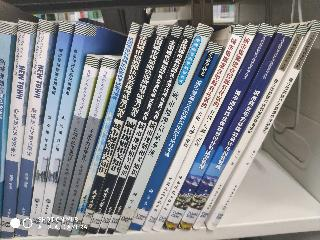book-spine: (206, 20, 320, 233), (178, 23, 294, 232), (162, 22, 276, 232), (192, 24, 308, 230), (141, 24, 246, 233), (152, 24, 258, 231), (112, 23, 212, 234), (106, 26, 195, 234), (96, 26, 182, 234), (128, 42, 221, 232), (87, 25, 169, 234), (76, 24, 153, 235), (70, 23, 140, 236), (23, 22, 74, 236), (38, 22, 86, 236), (58, 57, 115, 236), (45, 54, 100, 236), (15, 21, 52, 236), (0, 21, 34, 238), (0, 22, 14, 210)
